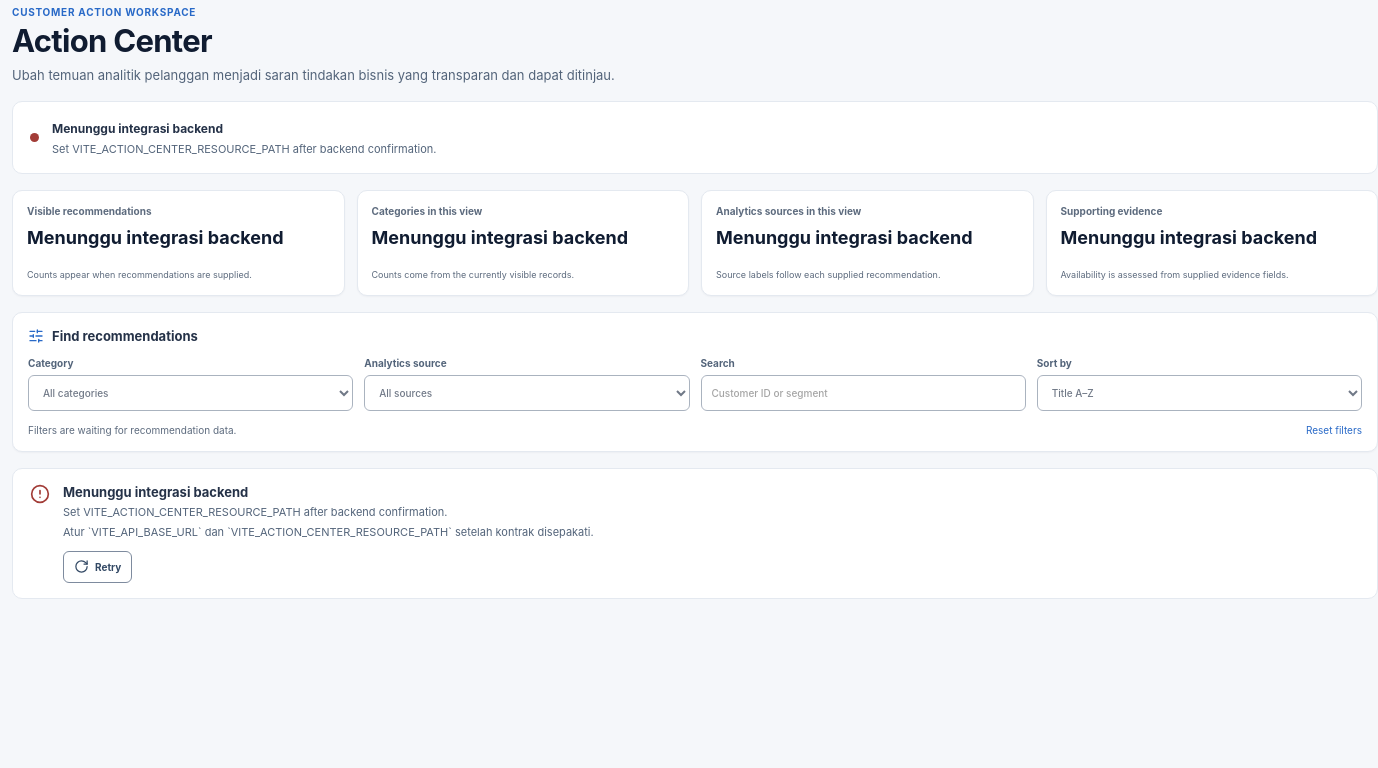
Test: Action Center page › shows unavailable configuration separately from request errors and retries errors
expect the 1st text "VITE_ACTION_CENTER_RESOURCE_PATH" is shown: met, box [52, 142, 436, 156]
Click the button "Retry" at (98, 567), box [63, 551, 132, 583]
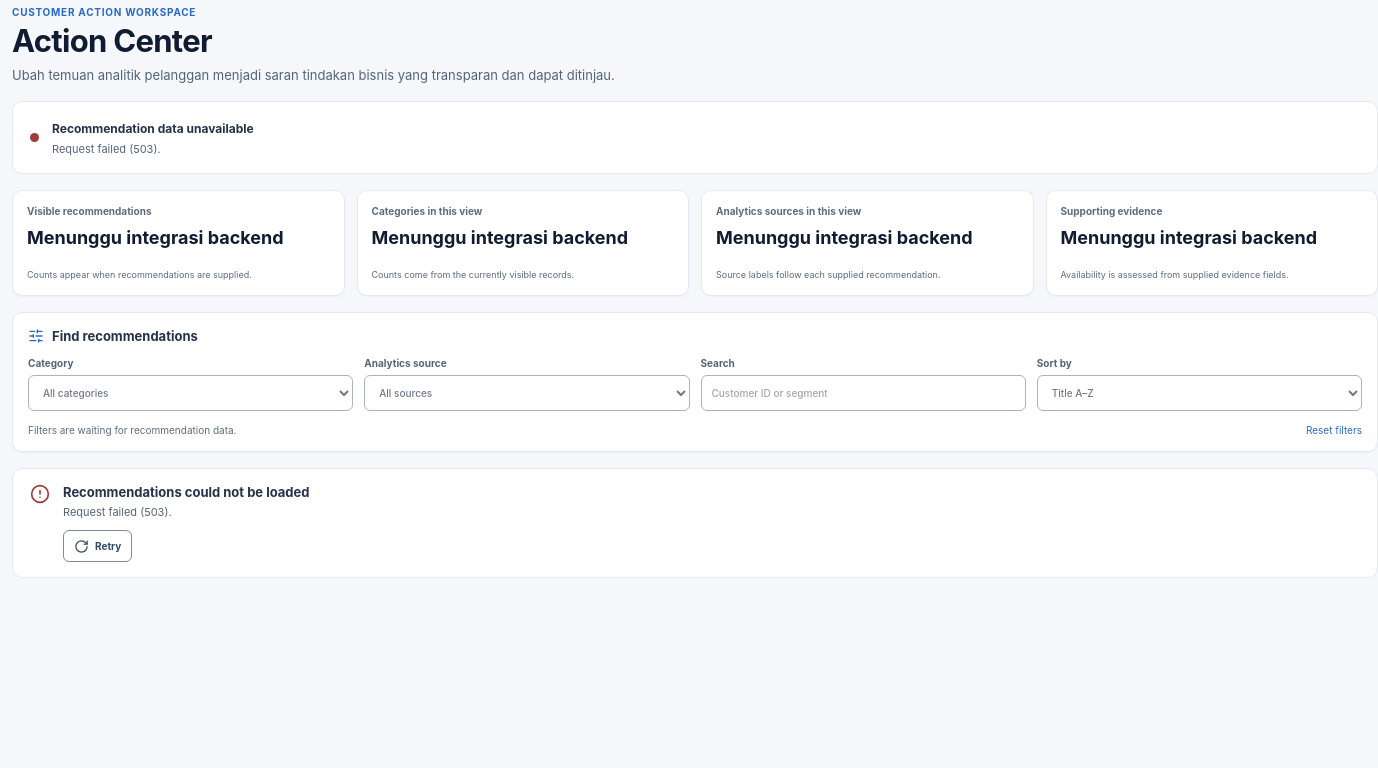
expect the text "Request failed (503)." below "Recommendation data unavailable" is shown: met, box [52, 142, 161, 156]
Click the button "Retry" at (98, 546), box [63, 530, 132, 562]
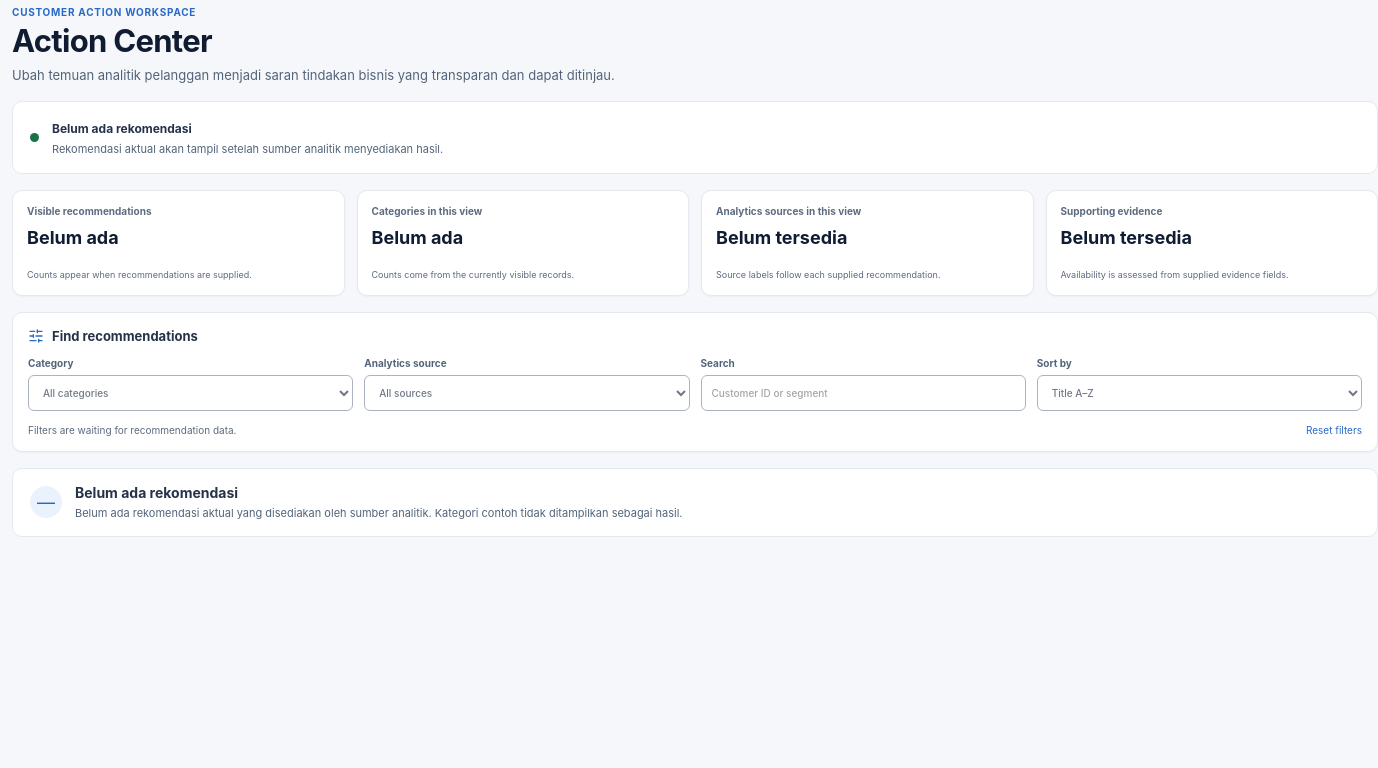
expect the heading "Belum ada rekomendasi" is shown: met, box [75, 484, 238, 501]
